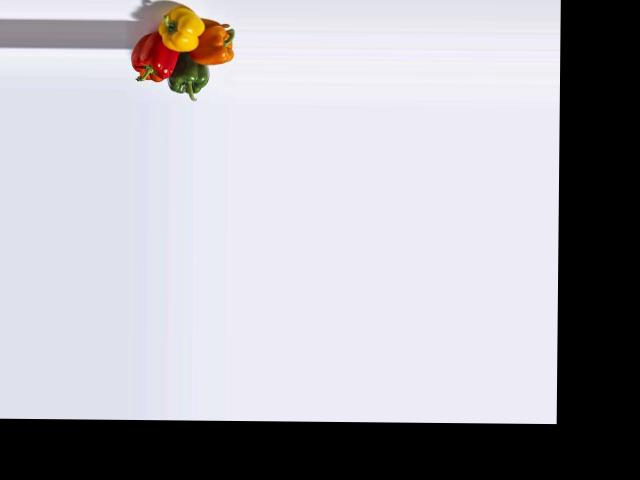bell_pepper: (129, 31, 178, 87)
